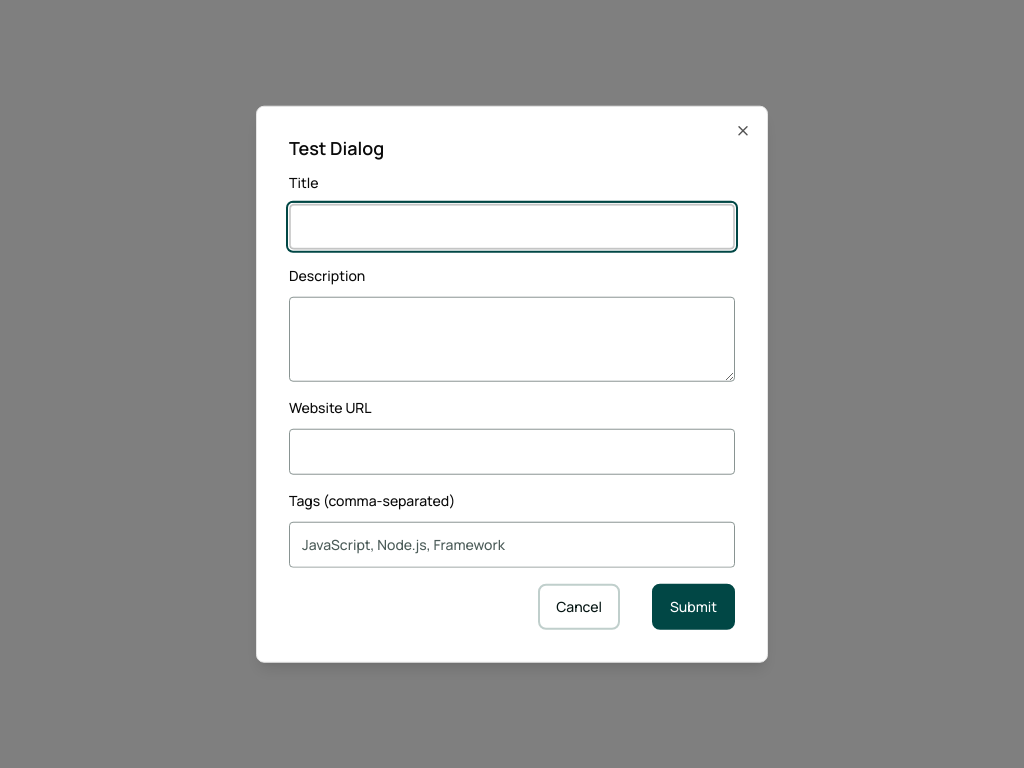
Test case: BookmarkDialog › validates required fields
Click the button "Submit": (694, 606) top-left (652, 583), bottom-right (735, 629)
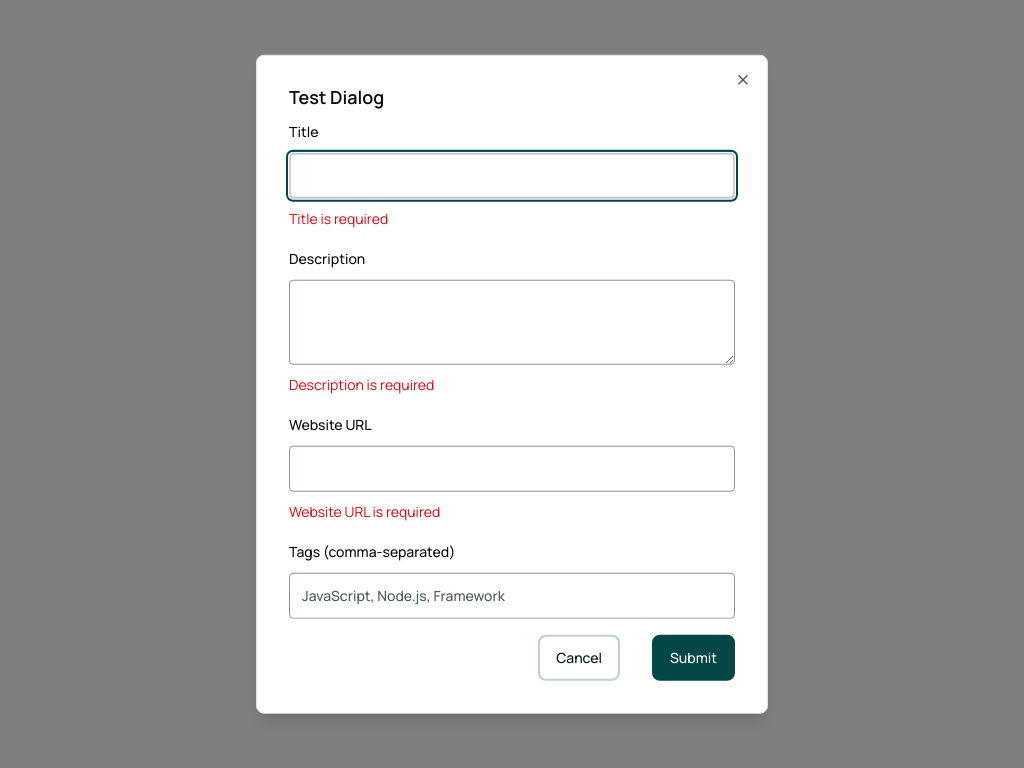
Check: the text "Title is required" is shown, box top-left (289, 209), bottom-right (388, 228)
Check: the text "Description is required" is shown, box top-left (289, 375), bottom-right (434, 394)
Check: the text "Website URL is required" is shown, box top-left (289, 501), bottom-right (440, 520)
